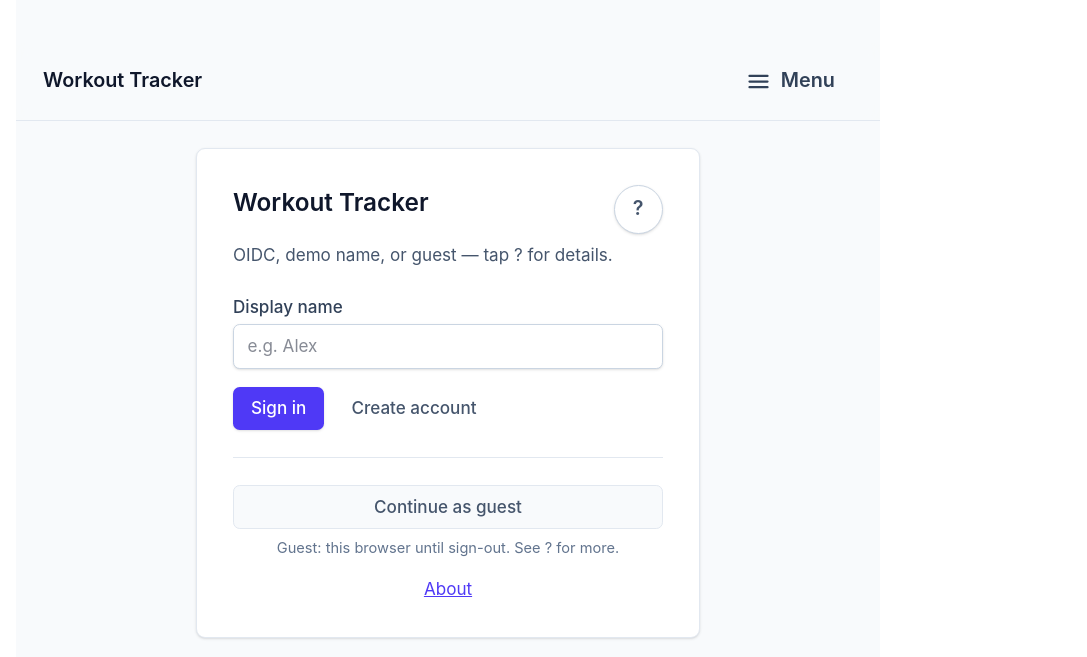
Test: App › signs in and shows workouts list (MSW)
Type "Test Lifter" into the field labelled "Display name" at (448, 346), box left=233, top=324, right=663, bottom=369
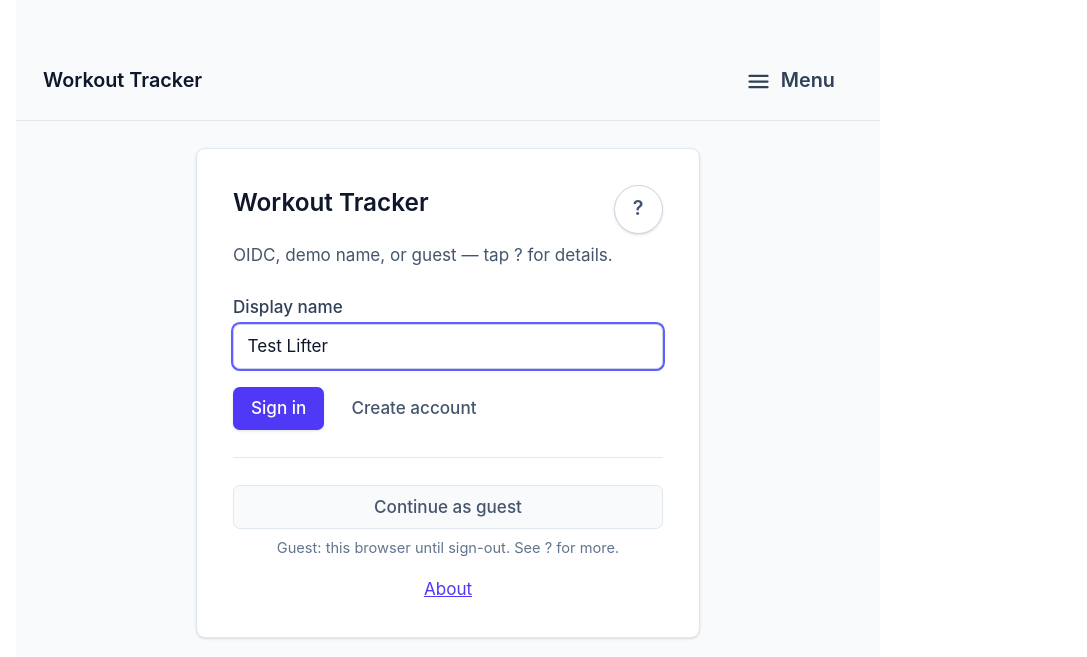
Click the button "Sign in" at (279, 408), box left=233, top=387, right=324, bottom=430
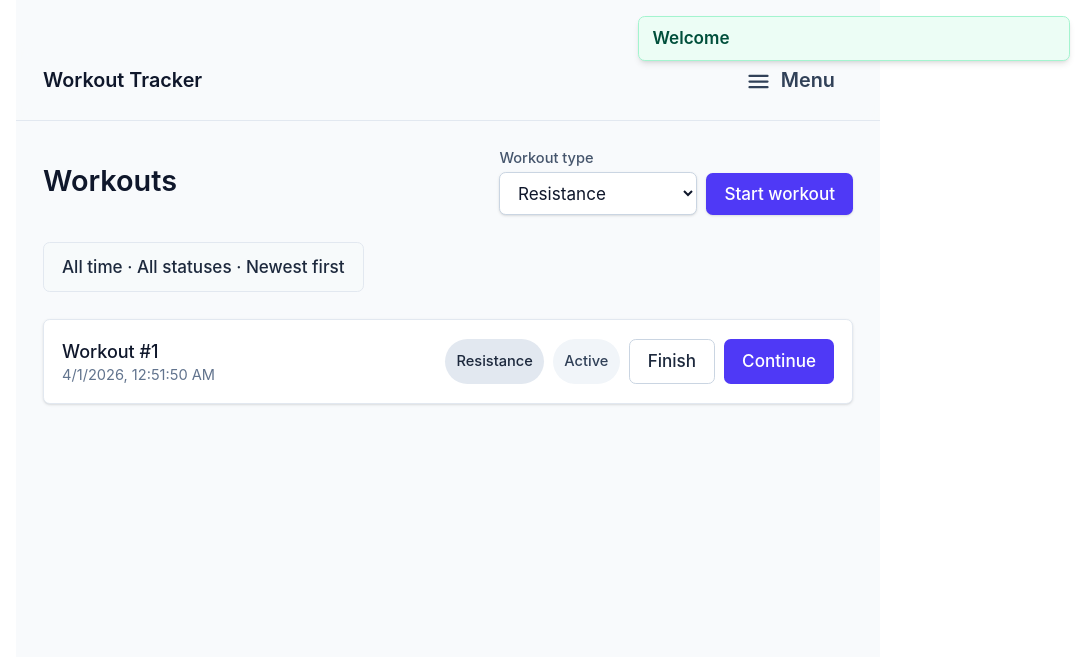
Expected: the heading "Workouts" is shown, left=43, top=162, right=177, bottom=200
Expected: the button "Start workout" is shown, left=706, top=172, right=853, bottom=215
